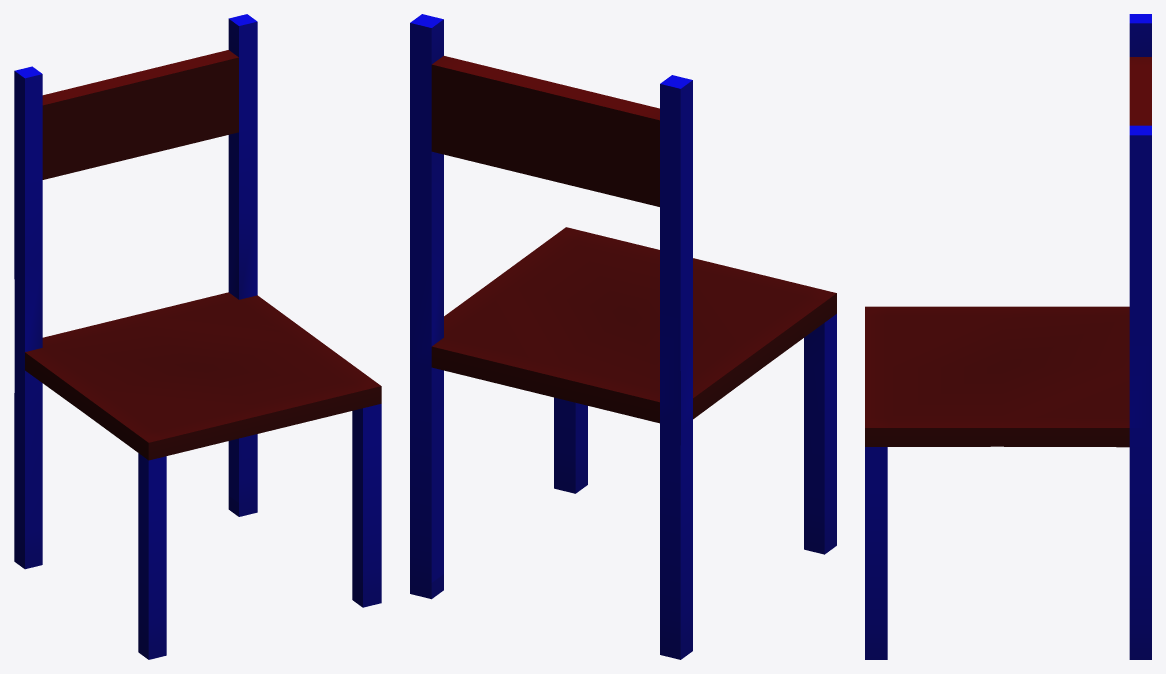
Rendered from SchoolChair.glb.
The picture shows the model from 3 angles, left to right: view 1: azimuth 30°, elevation 25°; view 2: azimuth 150°, elevation 25°; view 3: azimuth 270°, elevation 25°; orthographic projection. The views are drawn at different scales.
Visible parts, largest first — view 1: SchoolChair; view 2: SchoolChair; view 3: SchoolChair.
Part boxes in pixels (x1=…): SchoolChair: x1=14, y1=14, x2=381, y2=659; SchoolChair: x1=410, y1=14, x2=836, y2=659; SchoolChair: x1=865, y1=14, x2=1151, y2=659.
Size of the model in its own units: 3.19 by 6.42 by 3.18.
